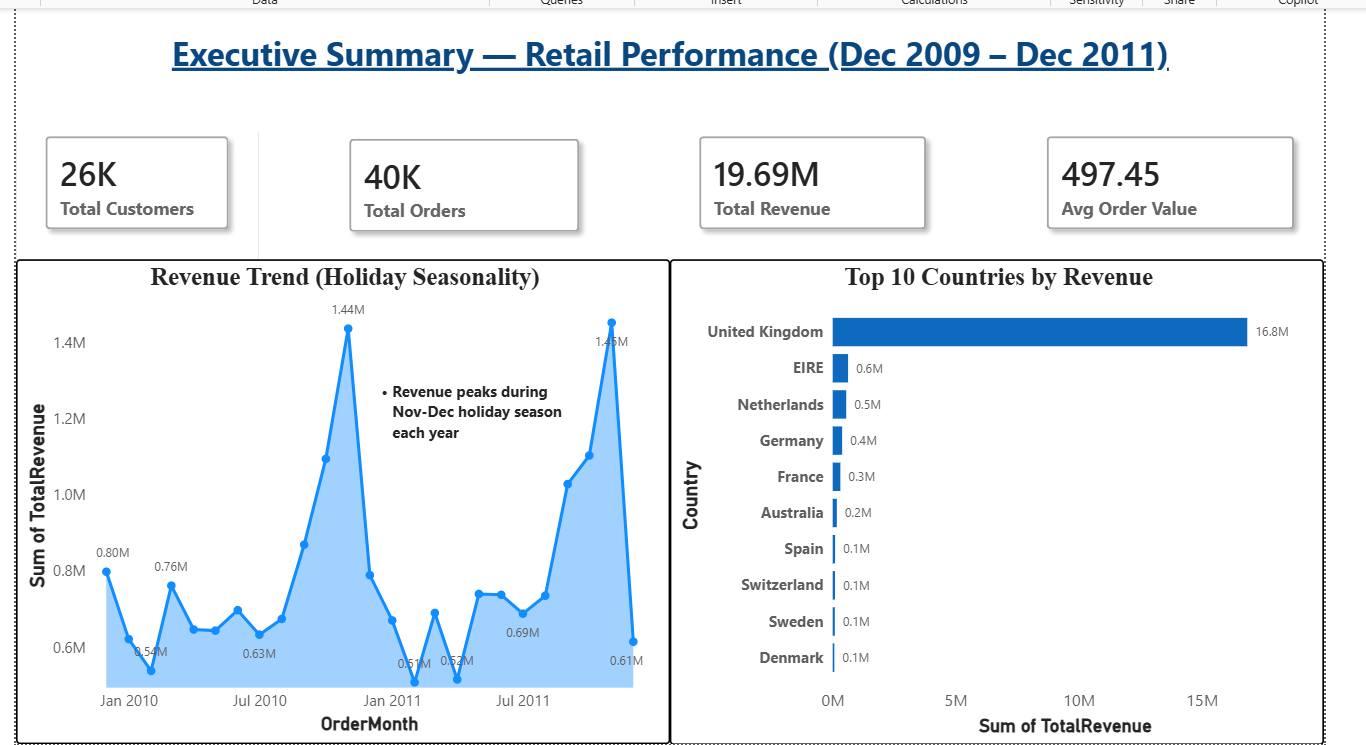

What the dashboard file says about the page in this screenshot:
{"tool":"powerbi","page":{"name":"Executive Summary","canvas":[1280,720],"ordinal":0},"visuals":[{"type":"cardVisual","fields":{"Data":["Measures_Table.Total Revenue"]},"box":[640.1,96.3,280.1,149.6],"z":0},{"type":"cardVisual","fields":{"Data":["Measures_Table.Total Orders"]},"box":[296.6,98.9,283.9,149.6],"z":1000},{"type":"cardVisual","fields":{"Data":["Measures_Table.Avg Order Value"]},"box":[979.6,96.3,300.4,149.6],"z":2000},{"type":"cardVisual","fields":{"Data":["Measures_Table.Total Customers"]},"box":[0,96.3,237,149.6],"z":3000},{"type":"lineChart","title":"Revenue Trend (Holiday Seasonality)","fields":{"Y":["Sum(vw_MonthlyRevenue.TotalRevenue)"],"Category":["vw_MonthlyRevenue.OrderMonth"]},"box":[0,245.9,640.1,474.1],"z":4000},{"type":"clusteredBarChart","title":"Top 10 Countries by Revenue","fields":{"Y":["Sum(vw_CountryPerformance.TotalRevenue)"],"Category":["vw_CountryPerformance.Country"]},"box":[640.1,245.9,640.1,475.3],"z":5000},{"type":"textbox","box":[341,360,211.7,77.3],"z":6000},{"type":"textbox","box":[0,0,1280.3,121.7],"z":7000}]}

Visuals, with their boxes on the page's 1280x720 design canvas (x1, y1, x2, y2). These are canvas units, not pixel positions in the 1366x745 screenshot, which may show the page scaled, cropped or inside an application window:
cardVisual - Measures_Table.Total Revenue: bbox=[640, 96, 920, 246]
cardVisual - Measures_Table.Total Orders: bbox=[297, 99, 580, 248]
cardVisual - Measures_Table.Avg Order Value: bbox=[980, 96, 1280, 246]
cardVisual - Measures_Table.Total Customers: bbox=[0, 96, 237, 246]
"Revenue Trend (Holiday Seasonality)" lineChart: bbox=[0, 246, 640, 720]
"Top 10 Countries by Revenue" clusteredBarChart: bbox=[640, 246, 1280, 721]
textbox: bbox=[341, 360, 553, 437]
textbox: bbox=[0, 0, 1280, 122]
